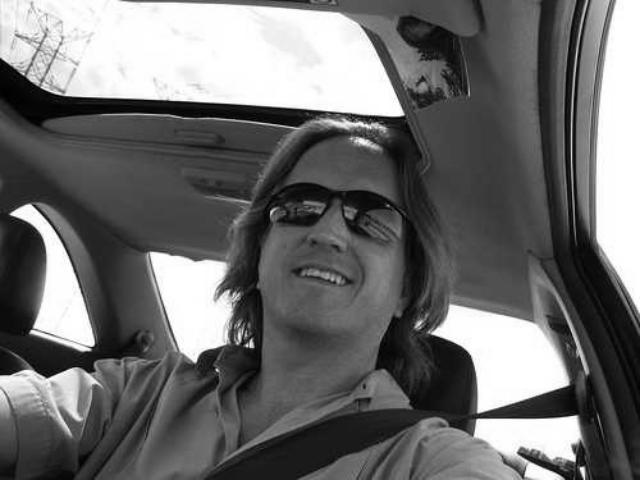SafeDriving: (272, 192, 328, 222)
Seatbelt: (201, 376, 585, 480)
